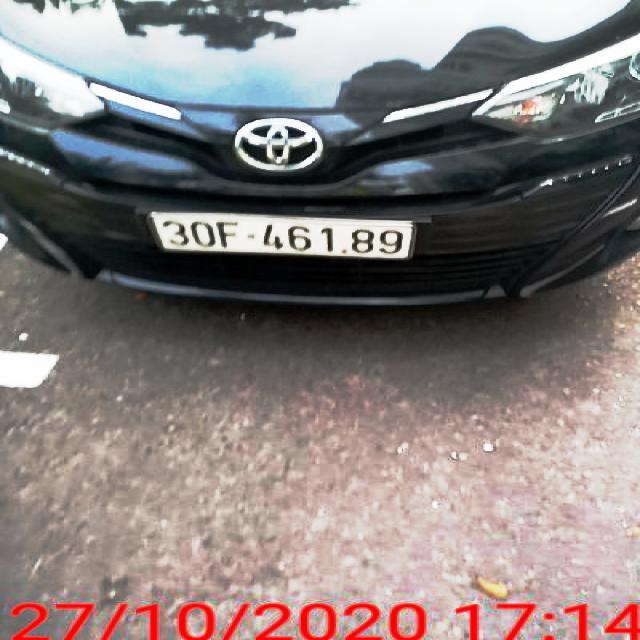license_plate: (153, 211, 420, 261)
